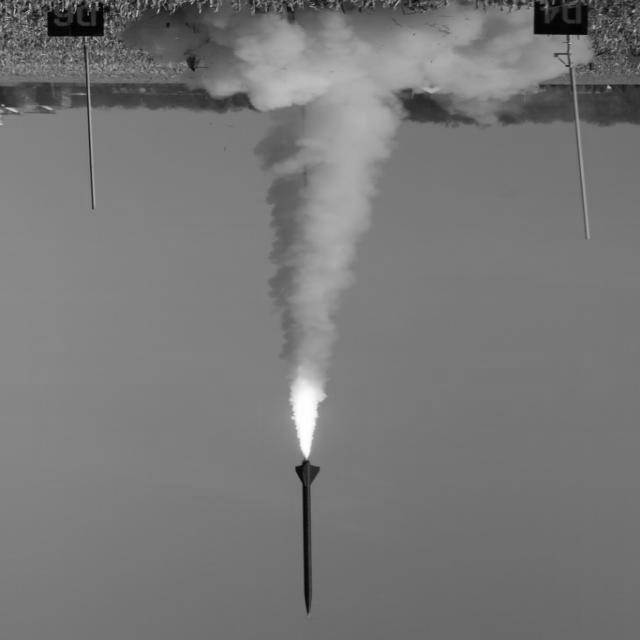missile: (294, 458, 321, 619)
